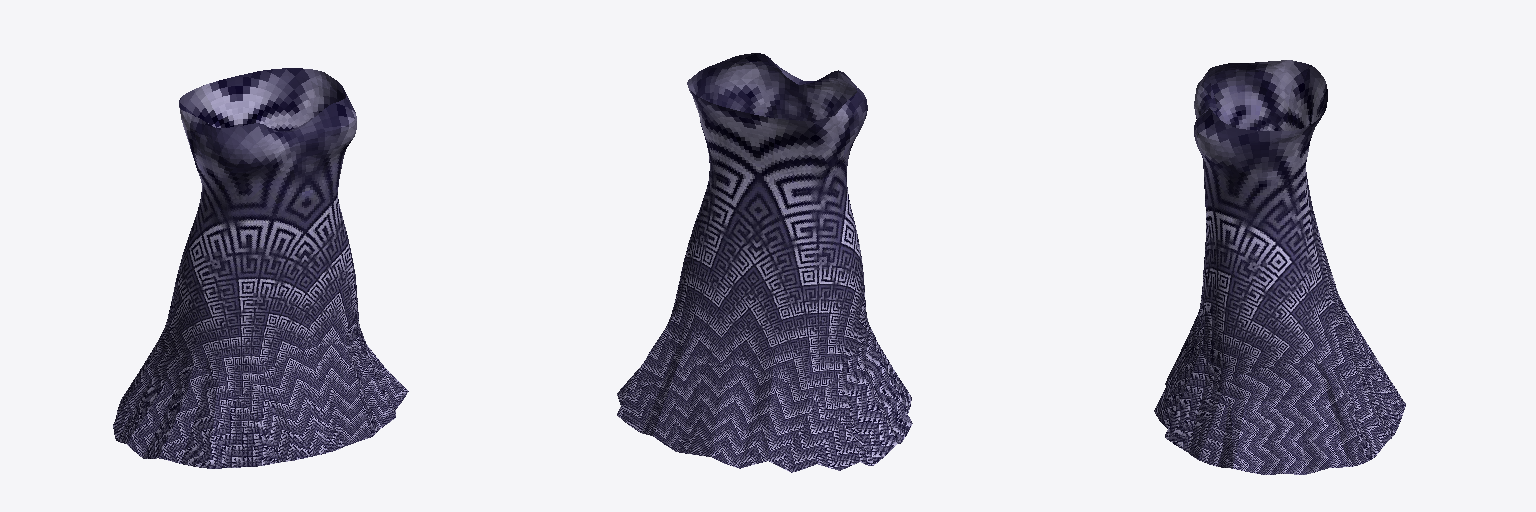
3 views of the same model, side by side, from view 1: azimuth 30°, elevation 25°; view 2: azimuth 150°, elevation 25°; view 3: azimuth 270°, elevation 25° (orthographic).
Visible parts, largest first — view 1: Dress_Form.002; view 2: Dress_Form.002; view 3: Dress_Form.002.
Part boxes in pixels (x1,y1,x2,y2): Dress_Form.002: (113, 68, 408, 468); Dress_Form.002: (617, 53, 912, 472); Dress_Form.002: (1154, 60, 1405, 474).
Size of the model in its own units: 0.451 by 0.5579 by 0.3802.
Materials: 1 (1 with a texture image).